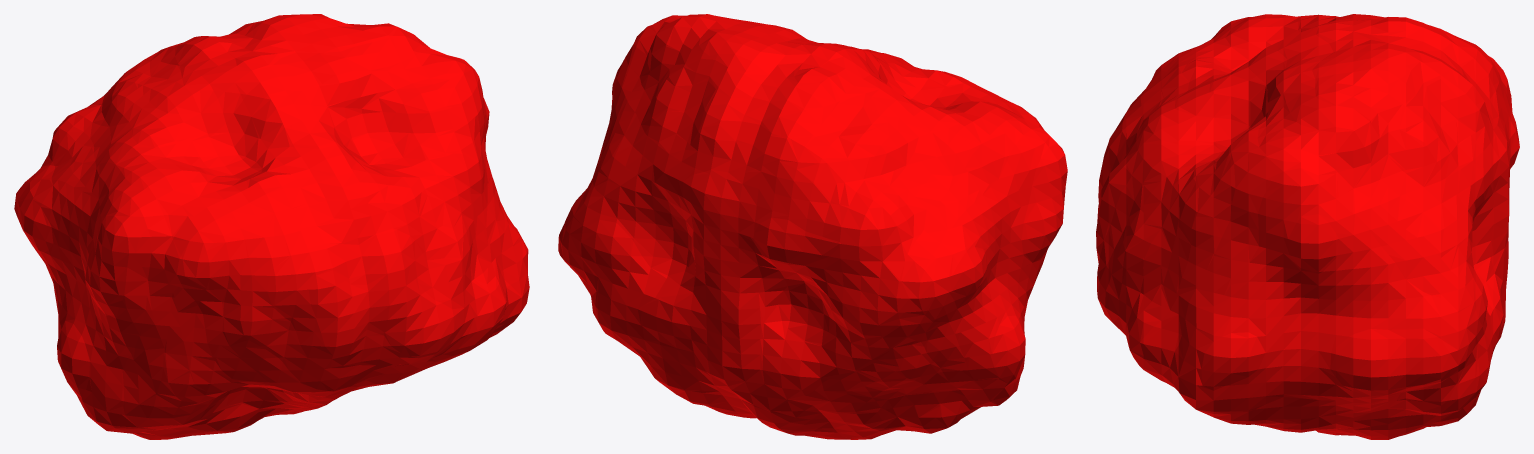
Rendered from ychN_coarse.dae.
The picture shows the model from 3 angles, left to right: view 1: azimuth 30°, elevation 25°; view 2: azimuth 150°, elevation 25°; view 3: azimuth 270°, elevation 25°; orthographic projection. The views are drawn at different scales.
Parts seen in each view (by area): view 1: ychN; view 2: ychN; view 3: ychN.
Boxes of the visible parts, box(x1,y1,x2,y2) form: ychN: box(14, 14, 529, 439); ychN: box(558, 14, 1067, 439); ychN: box(1096, 14, 1519, 439).
Size of the model in its own units: 72.34 by 61.42 by 58.77.
